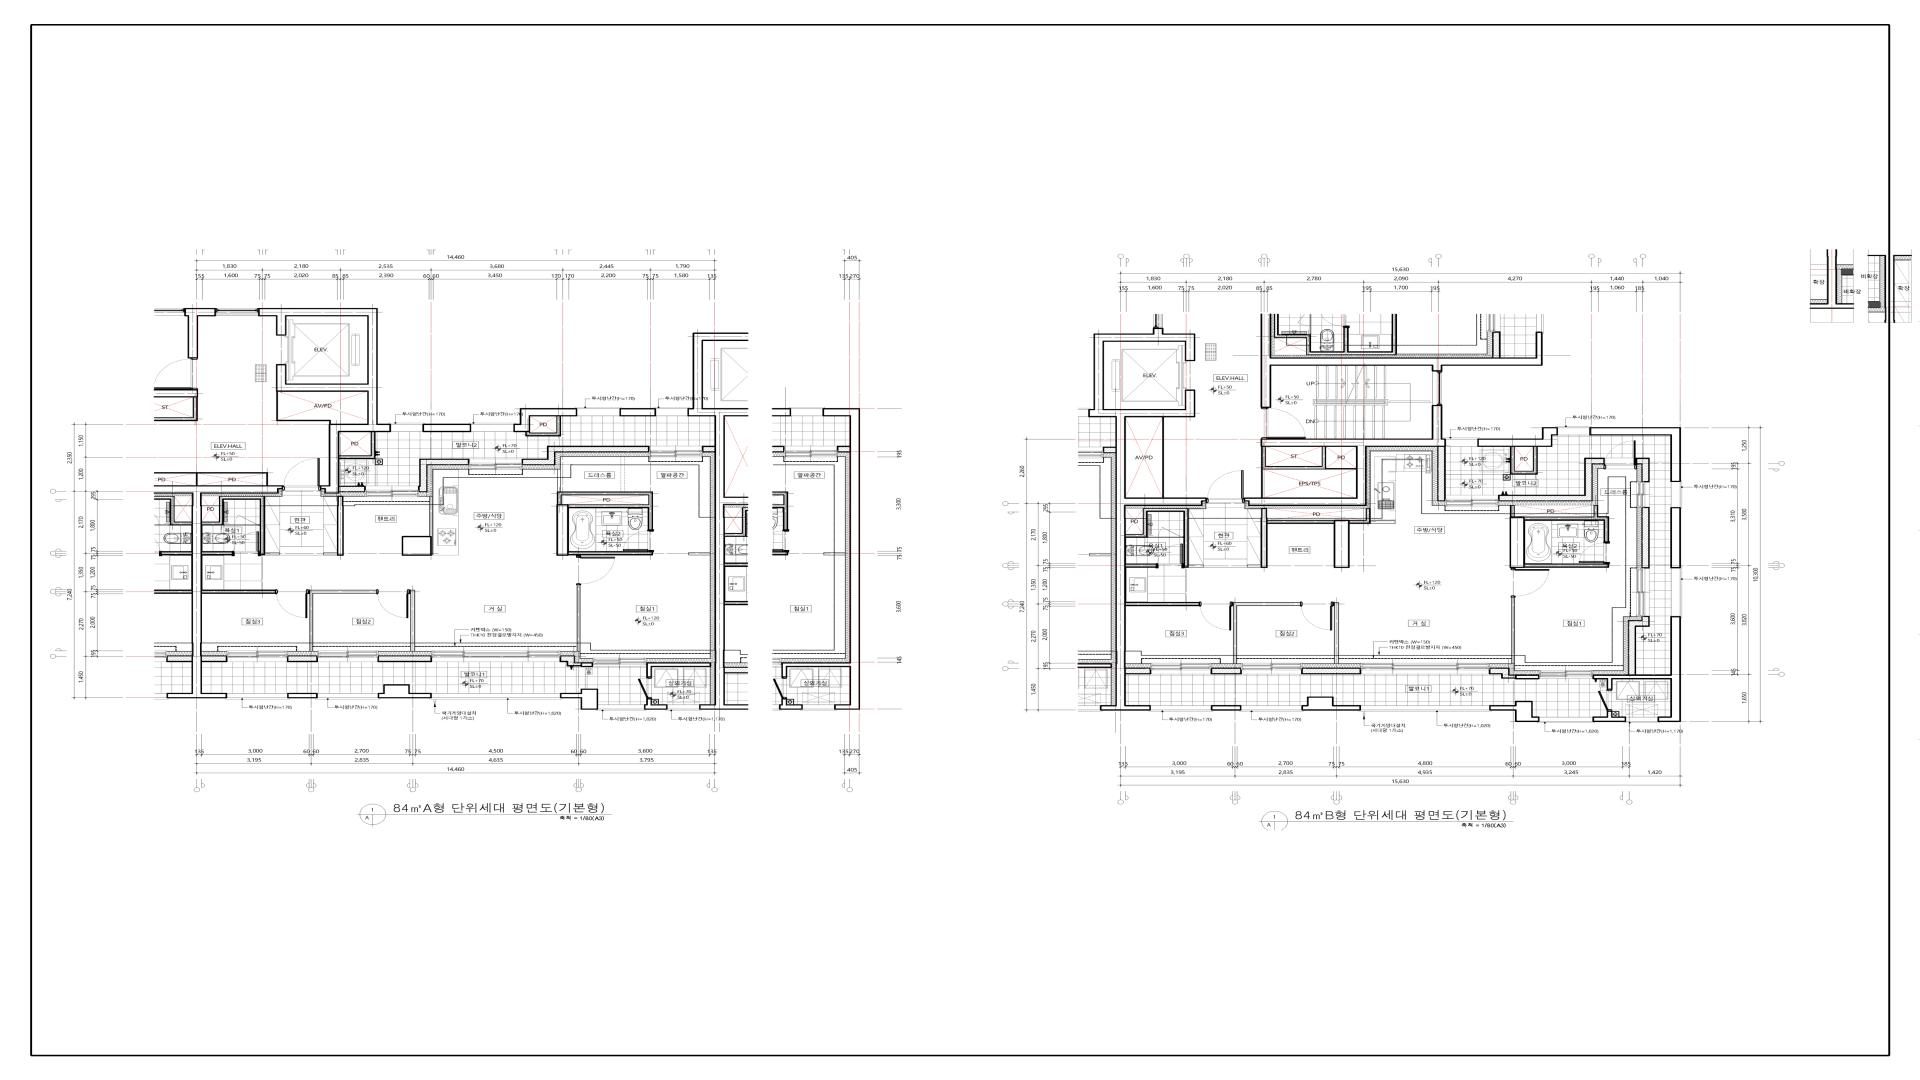door: (1261, 407, 1305, 439), (1207, 469, 1244, 504), (282, 458, 320, 491), (576, 555, 616, 585), (1510, 568, 1551, 597), (276, 589, 310, 618), (376, 589, 410, 618), (1302, 601, 1335, 630), (1200, 601, 1233, 630), (1605, 440, 1636, 469), (1156, 543, 1184, 568), (232, 531, 260, 556), (622, 530, 654, 551), (1578, 543, 1610, 563), (638, 678, 653, 699), (235, 514, 260, 526), (1159, 527, 1182, 538)
wall: (1088, 328, 1207, 711), (154, 485, 282, 699), (1261, 314, 1543, 407), (258, 309, 392, 493), (687, 332, 749, 709), (1244, 405, 1447, 506), (1593, 616, 1681, 723), (1589, 427, 1681, 483), (1499, 458, 1605, 501), (310, 589, 376, 651), (1233, 603, 1300, 663), (1126, 508, 1188, 568), (202, 496, 265, 555), (556, 492, 653, 530), (1524, 505, 1609, 543), (522, 446, 649, 465), (418, 459, 469, 492), (513, 407, 578, 433), (1477, 427, 1559, 447), (185, 309, 216, 359), (1261, 447, 1327, 469), (1629, 616, 1650, 675), (1489, 700, 1540, 723), (646, 662, 712, 678), (154, 397, 198, 421), (339, 433, 376, 459), (1302, 696, 1361, 711), (1333, 520, 1350, 568), (560, 688, 599, 709), (377, 684, 433, 699), (1510, 447, 1538, 475), (1510, 517, 1524, 568), (1671, 508, 1681, 568), (556, 504, 568, 556), (1437, 447, 1447, 501), (1642, 508, 1650, 568), (1524, 563, 1610, 568), (422, 423, 471, 433), (338, 496, 344, 556), (1261, 508, 1267, 568), (1593, 711, 1626, 723), (1302, 667, 1361, 674), (1126, 601, 1200, 607), (1349, 508, 1371, 524), (378, 655, 431, 662), (154, 389, 198, 397), (620, 407, 657, 417), (568, 551, 653, 555), (410, 589, 415, 651), (1636, 458, 1650, 481), (429, 496, 434, 555), (1490, 667, 1515, 679), (202, 589, 276, 593), (1511, 597, 1515, 663), (576, 585, 580, 651), (1267, 520, 1333, 524), (644, 699, 667, 709), (1335, 603, 1338, 663), (1212, 667, 1241, 675), (560, 655, 580, 666), (287, 655, 318, 662), (339, 485, 365, 492), (202, 655, 227, 662), (287, 694, 318, 699), (1211, 705, 1241, 711), (1126, 563, 1156, 568), (1126, 667, 1150, 674), (202, 551, 232, 555), (1515, 675, 1539, 679), (703, 446, 715, 452), (580, 662, 593, 667), (1510, 505, 1515, 517), (558, 469, 560, 492), (688, 553, 709, 555), (265, 553, 280, 555), (323, 553, 338, 555), (1189, 564, 1204, 567), (1247, 564, 1261, 567)
window: (431, 651, 560, 662), (1361, 663, 1490, 670), (433, 692, 560, 699), (1361, 705, 1489, 711), (365, 485, 419, 497), (649, 446, 703, 458), (318, 651, 378, 662), (227, 651, 287, 662), (1671, 568, 1683, 616), (469, 459, 522, 469), (592, 658, 646, 667), (1150, 663, 1212, 671), (1636, 568, 1646, 616), (1540, 670, 1593, 678), (1241, 663, 1302, 670), (227, 692, 287, 699), (471, 423, 513, 433), (578, 407, 620, 417), (1432, 372, 1443, 405), (1447, 500, 1498, 506), (1151, 705, 1211, 711), (1242, 705, 1302, 711), (318, 694, 377, 699), (1671, 483, 1683, 506), (1447, 438, 1477, 447), (392, 423, 422, 433), (657, 407, 687, 417), (1559, 426, 1589, 435), (1540, 717, 1593, 723), (599, 704, 644, 709), (1636, 483, 1646, 508), (1626, 717, 1658, 723), (667, 704, 699, 709)
